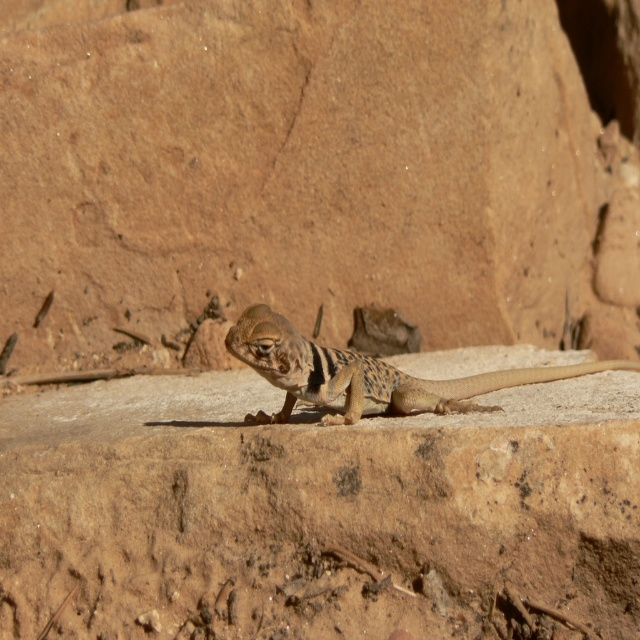Lizard: (224, 303, 638, 429)
